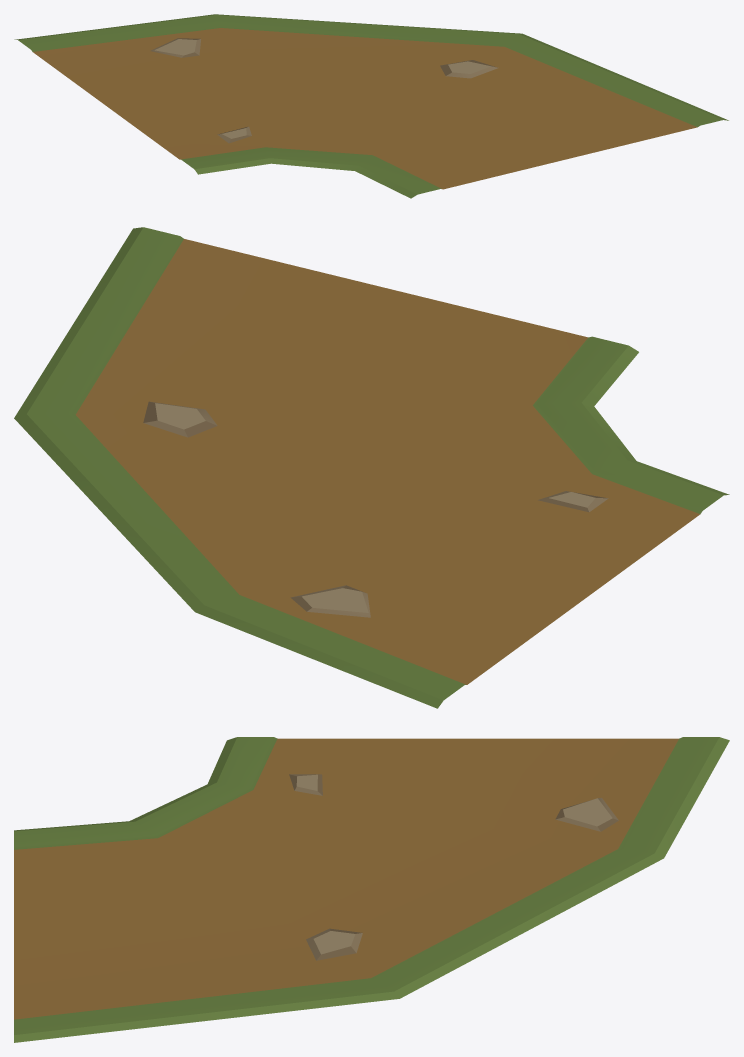
Rendered from Path_Bend.gltf.
3 views of the same model, one above another, from view 1: azimuth 30°, elevation 25°; view 2: azimuth 150°, elevation 25°; view 3: azimuth 270°, elevation 25° (orthographic). The views are drawn at different scales.
Visible parts, largest first — view 1: SF_Env_Path_Bend_01; view 2: SF_Env_Path_Bend_01; view 3: SF_Env_Path_Bend_01.
Part boxes in pixels (left/top/right/bottom): SF_Env_Path_Bend_01: left=14, top=14, right=728, bottom=198; SF_Env_Path_Bend_01: left=14, top=227, right=729, bottom=708; SF_Env_Path_Bend_01: left=14, top=737, right=729, bottom=1042.
Size of the model in its own units: 0.0771 by 0.000509 by 0.0771.
1 material, 1 textured.
